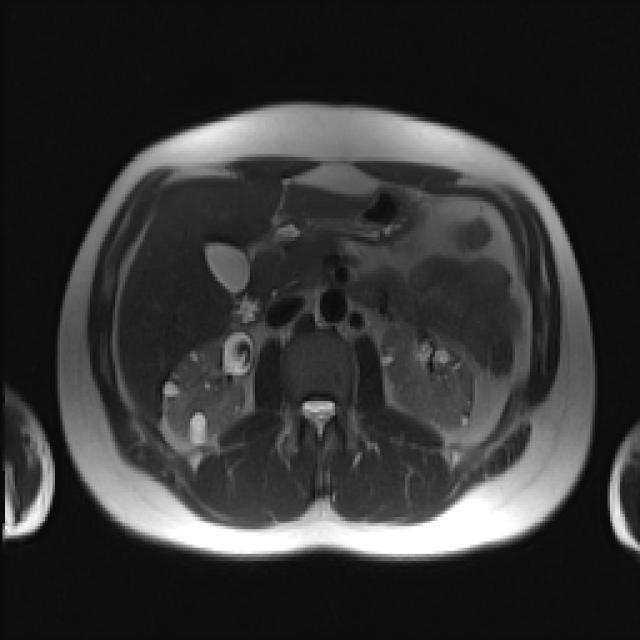sag: (162, 338, 245, 449)
sol: (379, 317, 474, 429)
